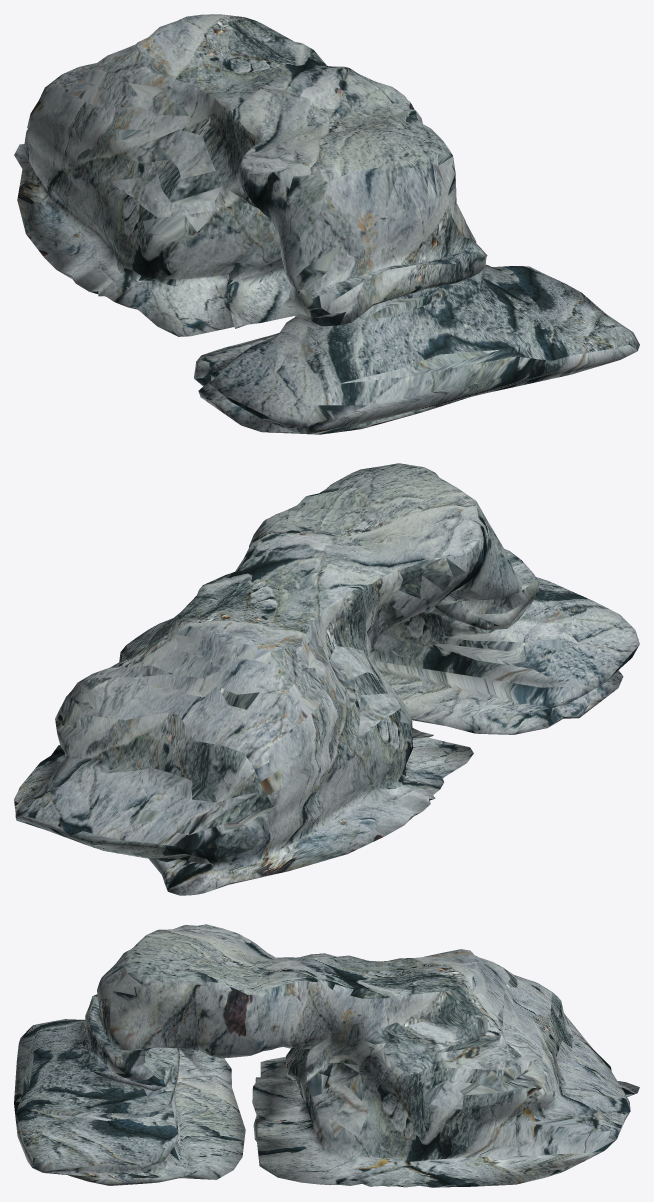
Rendered from rock.fbx.
3 renders of one model, top to bottom at view 1: azimuth 30°, elevation 25°; view 2: azimuth 150°, elevation 25°; view 3: azimuth 270°, elevation 25°, orthographic. The views are drawn at different scales.
Visible parts, largest first — view 1: Subdivision_Surface_1; view 2: Subdivision_Surface_1; view 3: Subdivision_Surface_1.
Part boxes in pixels (bbox=[...]): Subdivision_Surface_1: bbox=[14, 14, 639, 434]; Subdivision_Surface_1: bbox=[14, 463, 639, 895]; Subdivision_Surface_1: bbox=[14, 924, 639, 1187].
Bounding box in the file's own units: 699 × 370 × 1243.
1 material, 1 textured.
